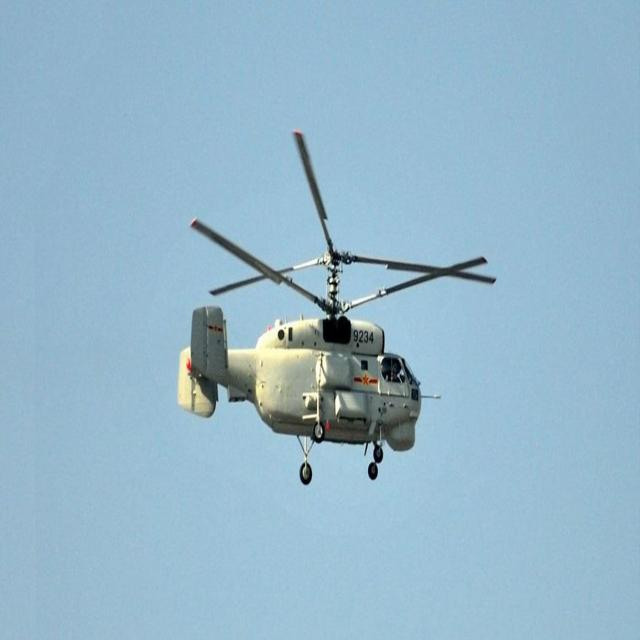MIL_HELO: (176, 123, 498, 490)
